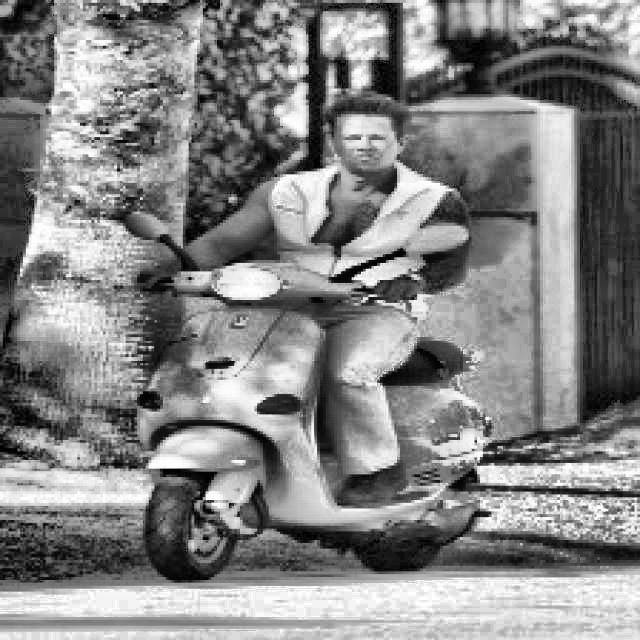motorcycle: (106, 187, 521, 590)
